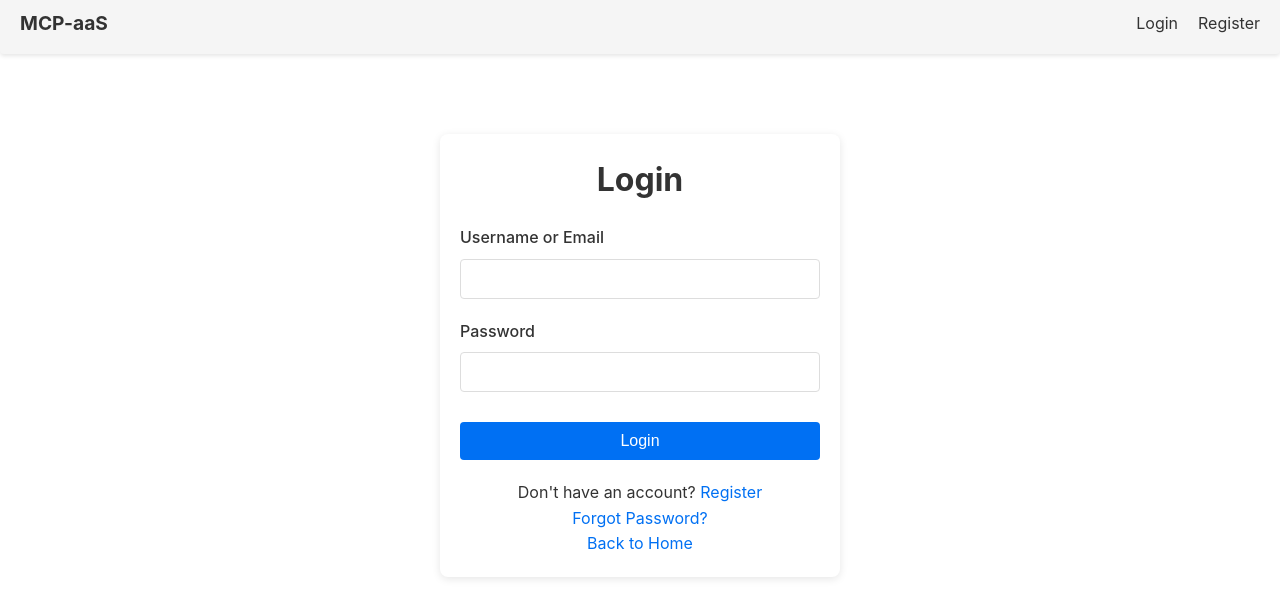
Login Component › should show loading state during login process
The image size is (1280, 597).
Type "testuser" into the field labelled "Username or Email".
click(640, 278); type("testuser")  # box x1=460 y1=258 x2=820 y2=298
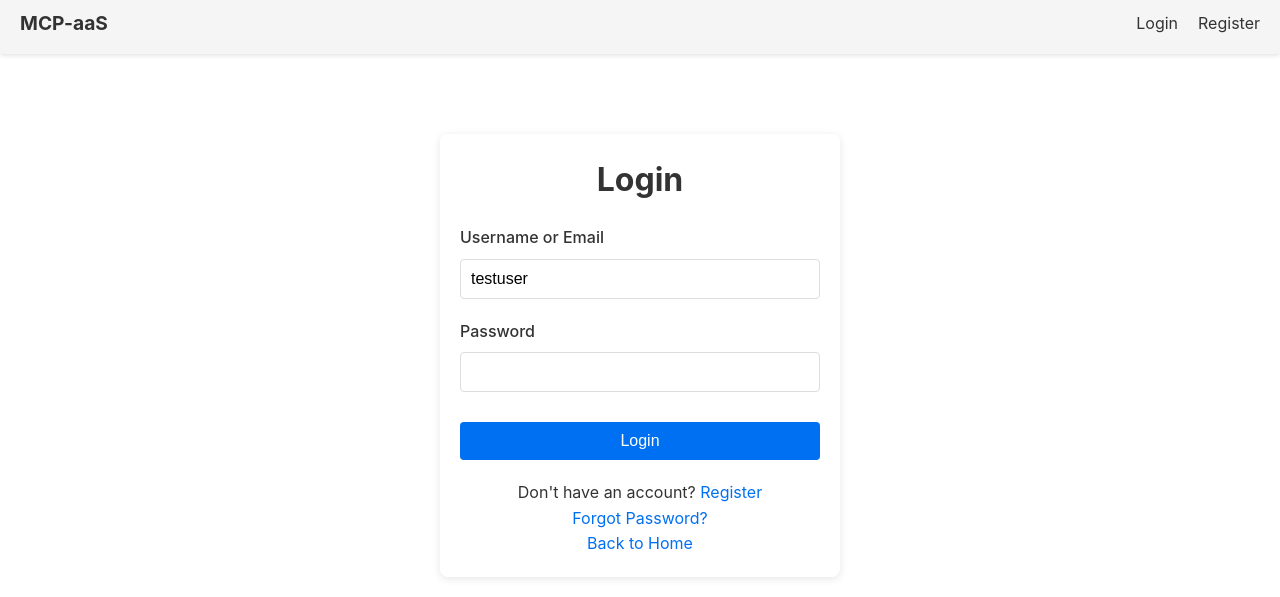
Type "password123" into the password field labelled "Password".
click(640, 372); type("password123")  # box x1=460 y1=352 x2=820 y2=392
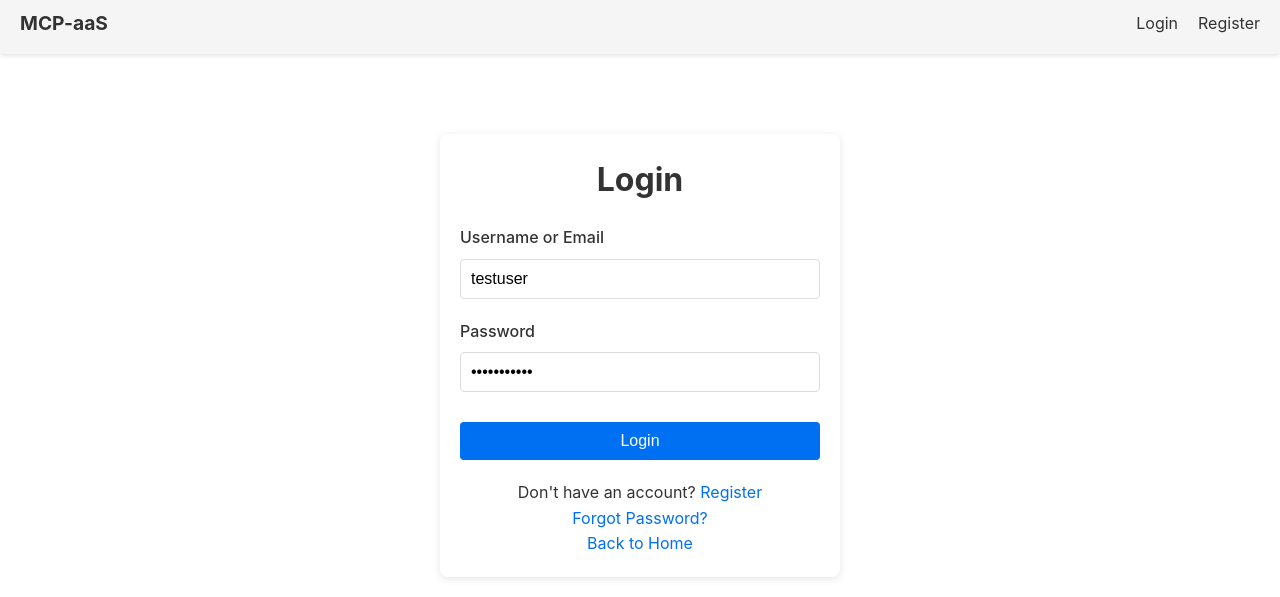
Click the button "Login".
click(640, 441)  # box x1=460 y1=422 x2=820 y2=460
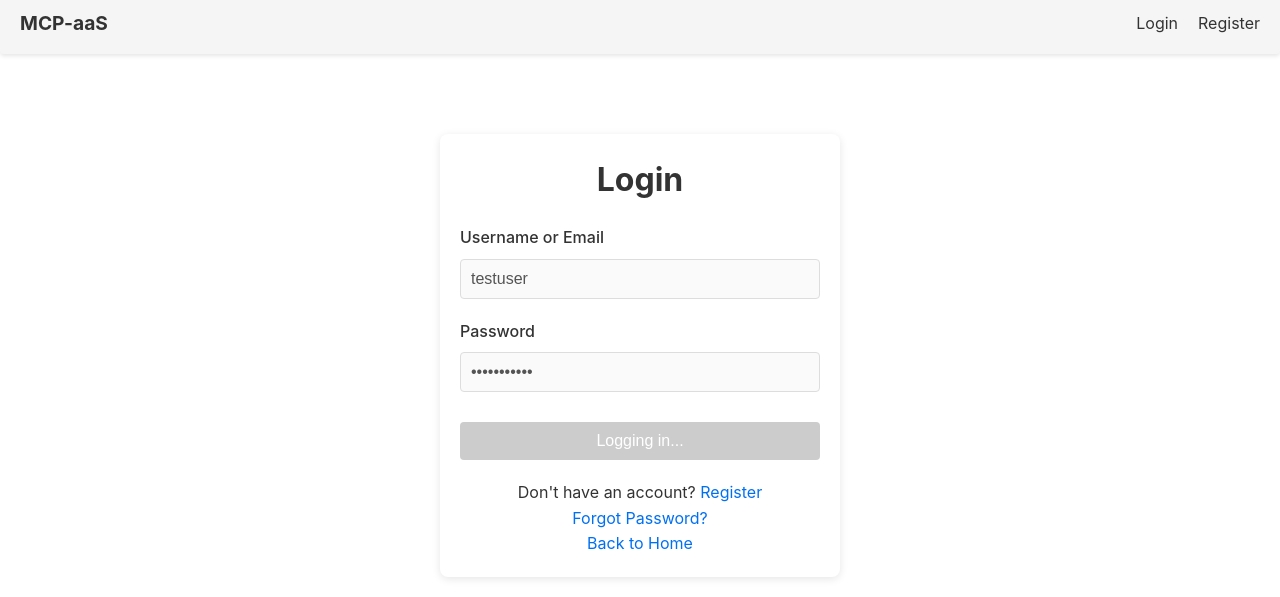
Result: the button "Logging in..." is disabled at x1=460 y1=422 x2=820 y2=460
